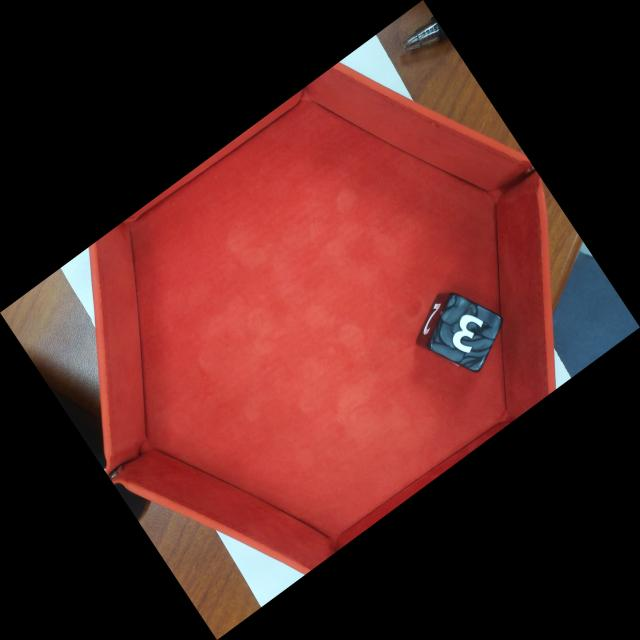dice: (426, 291, 505, 376)
